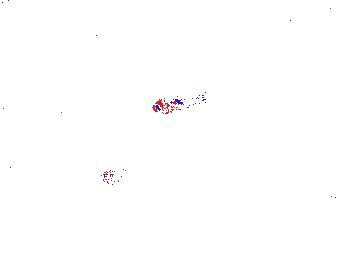X-ray fish: (100, 165, 141, 189), (297, 178, 313, 215)
glassfish: (321, 184, 346, 205)
red belly glassfish: (149, 93, 206, 114)
